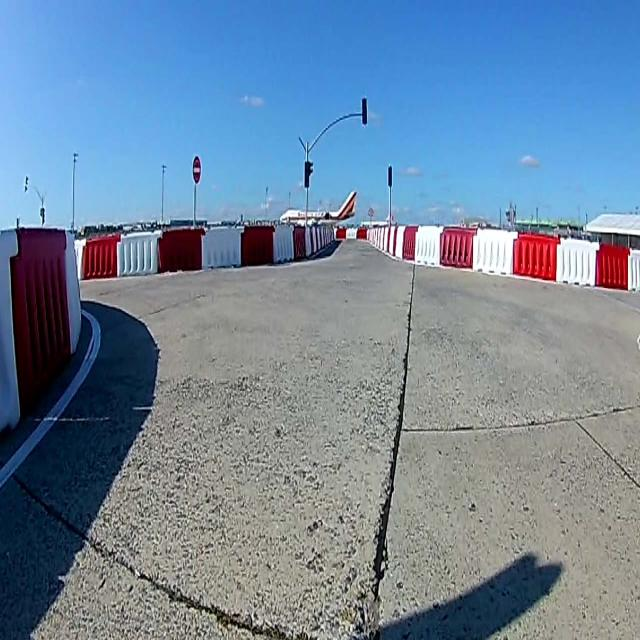girisyok: (193, 154, 200, 183)
